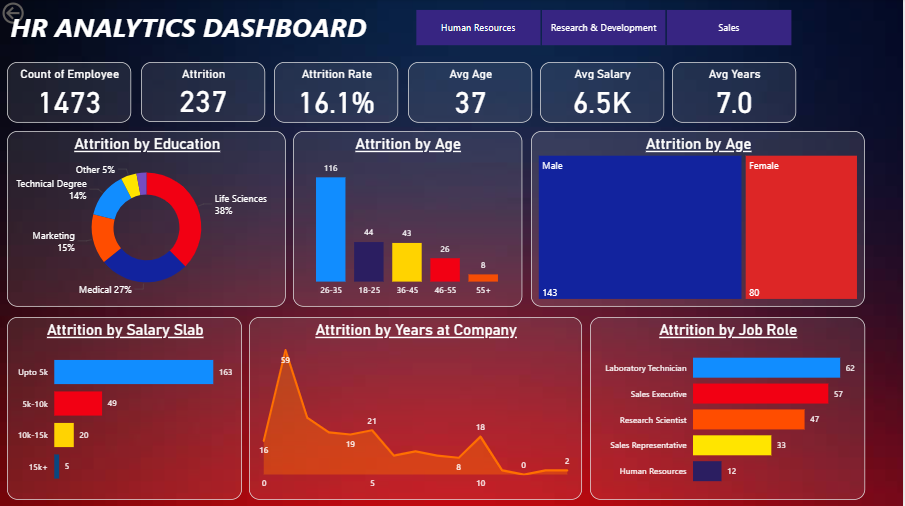

What the dashboard file says about the page in this screenshot:
{"tool":"powerbi","page":{"name":"Page 1","canvas":[1280,720],"ordinal":0},"visuals":[{"type":"card","title":"Count of Employee","fields":{"Values":["Sum(HR_Analytics.EmployeeCount)"]},"box":[10.6,89.3,209,90.9],"z":0},{"type":"card","title":"Attrition","fields":{"Values":["Sum(HR_Analytics.AttritionCount)"]},"box":[227.1,89.3,204.4,90.9],"z":1000},{"type":"card","title":"Attrition Rate","fields":{"Values":["HR_Analytics.AttritionRate"]},"box":[439.1,89.3,216.5,90.9],"z":2000},{"type":"card","title":"Avg Age","fields":{"Values":["Avg(HR_Analytics.Age)"]},"box":[661.7,89.3,202.9,90.9],"z":3000},{"type":"card","title":"Avg Years","fields":{"Values":["Avg(HR_Analytics.YearsAtCompany)"]},"box":[1075.7,89.3,193,91],"z":4000},{"type":"card","title":"Avg Salary","fields":{"Values":["Avg(HR_Analytics.MonthlyIncome)"]},"box":[872.2,89.3,193.8,90.9],"z":5000},{"type":"donutChart","title":" Attrition by Education","fields":{"Category":["HR_Analytics.EducationField"],"Y":["Sum(HR_Analytics.AttritionCount)"]},"box":[11.3,187.1,397,256],"z":6000},{"type":"columnChart","title":" Attrition by Age","fields":{"Category":["HR_Analytics.AgeGroup"],"Y":["Sum(HR_Analytics.AttritionCount)"]},"box":[416.4,187.8,373,255.9],"z":7000},{"type":"actionButton","box":[0,0,100,40],"z":8000},{"type":"clusteredBarChart","title":" Attrition by Salary Slab","fields":{"Category":["HR_Analytics.SalarySlab"],"Y":["Sum(HR_Analytics.AttritionCount)"]},"box":[11.3,450.7,386,258],"z":9000},{"type":"clusteredBarChart","title":" Attrition by Job Role","fields":{"Y":["Sum(HR_Analytics.AttritionCount)"],"Category":["HR_Analytics.JobRole"]},"box":[880.2,450.7,389.8,259.4],"z":10000},{"type":"areaChart","title":" Attrition by Years at Company","fields":{"Category":["HR_Analytics.YearsAtCompany"],"Y":["Sum(HR_Analytics.AttritionCount)"]},"box":[403.9,450.7,468,259.4],"z":11000},{"type":"lineChart","title":" Attrition by Age","fields":{"Category":["HR_Analytics.Age"],"Y":["CountNonNull(HR_Analytics.AttritionCount)"],"Series":["HR_Analytics.Gender"]},"box":[796.5,187.8,473.9,255.9],"z":12000},{"type":"slicer","title":"Filter by Departments","fields":{"Values":["HR_Analytics.Department"]},"box":[576.9,9.1,704,76],"z":13000},{"type":"textbox","box":[10.6,9.1,590.5,63.6],"z":14000}]}

Visuals, with their boxes in screenshot pixels (x1, y1, x2, y2), scaled from the page's 1280x720 canvas onto the 905x506 screenshot:
"Count of Employee" card: x1=7 y1=63 x2=155 y2=127
"Attrition" card: x1=161 y1=63 x2=305 y2=127
"Attrition Rate" card: x1=310 y1=63 x2=464 y2=127
"Avg Age" card: x1=468 y1=63 x2=611 y2=127
"Avg Years" card: x1=761 y1=63 x2=897 y2=127
"Avg Salary" card: x1=617 y1=63 x2=754 y2=127
" Attrition by Education" donutChart: x1=8 y1=131 x2=289 y2=311
" Attrition by Age" columnChart: x1=294 y1=132 x2=558 y2=312
actionButton: x1=0 y1=0 x2=71 y2=28
" Attrition by Salary Slab" clusteredBarChart: x1=8 y1=317 x2=281 y2=498
" Attrition by Job Role" clusteredBarChart: x1=622 y1=317 x2=898 y2=499
" Attrition by Years at Company" areaChart: x1=286 y1=317 x2=616 y2=499
" Attrition by Age" lineChart: x1=563 y1=132 x2=898 y2=312
"Filter by Departments" slicer: x1=408 y1=6 x2=904 y2=60
textbox: x1=7 y1=6 x2=425 y2=51
